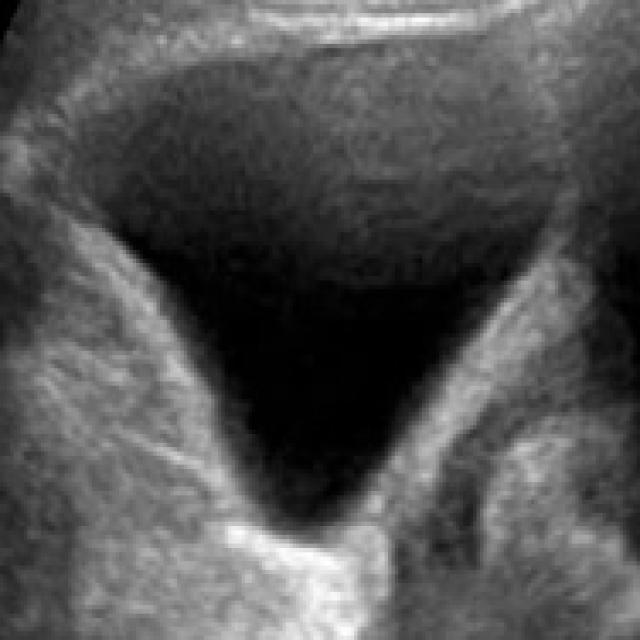bladder: (26, 9, 579, 609)
